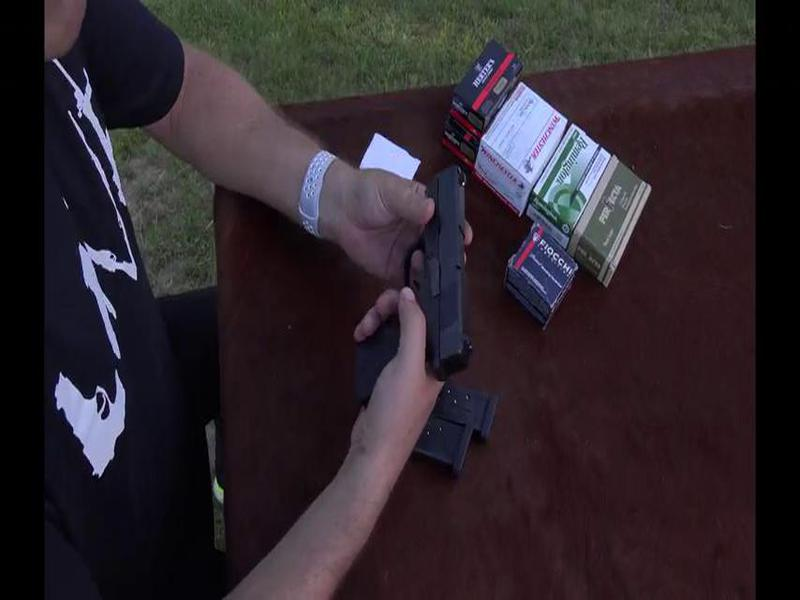Pistola: (358, 181, 482, 381)
